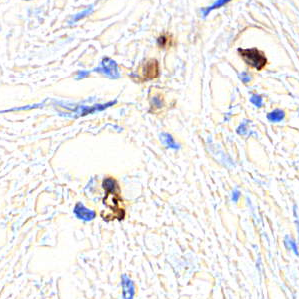Lymphocyte: (239, 45, 269, 70)
